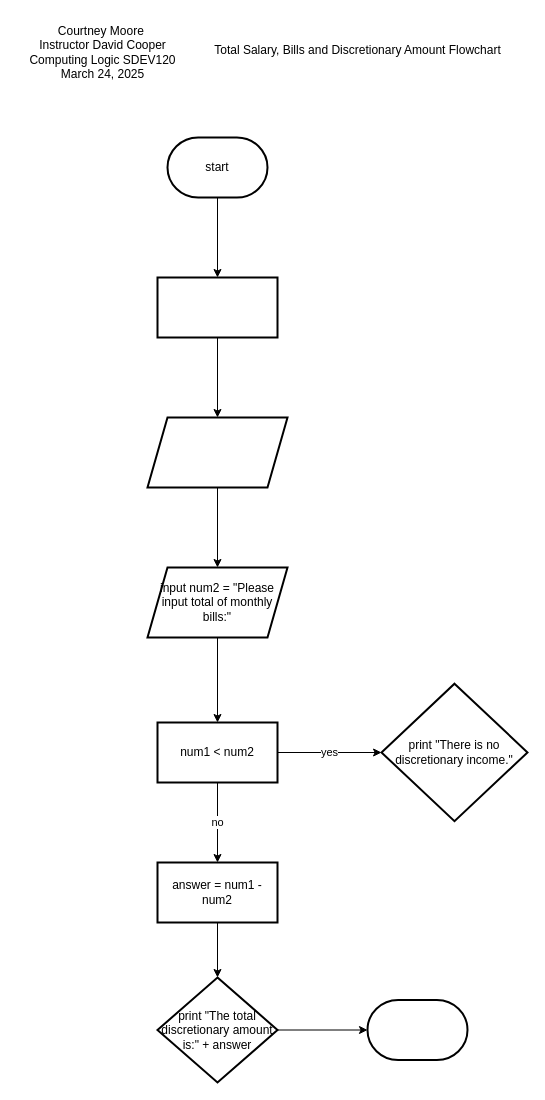
Image size: 545x1100. Some labels were removed from this diagram. The box of each missing label's shape, as (x1, y1, x2, y2) in pixels:
define num1 , num2 , answer: (156, 276, 278, 338)
input num1 = "Please input total of monthly salary:": (146, 416, 288, 488)
stop: (366, 998, 468, 1060)
